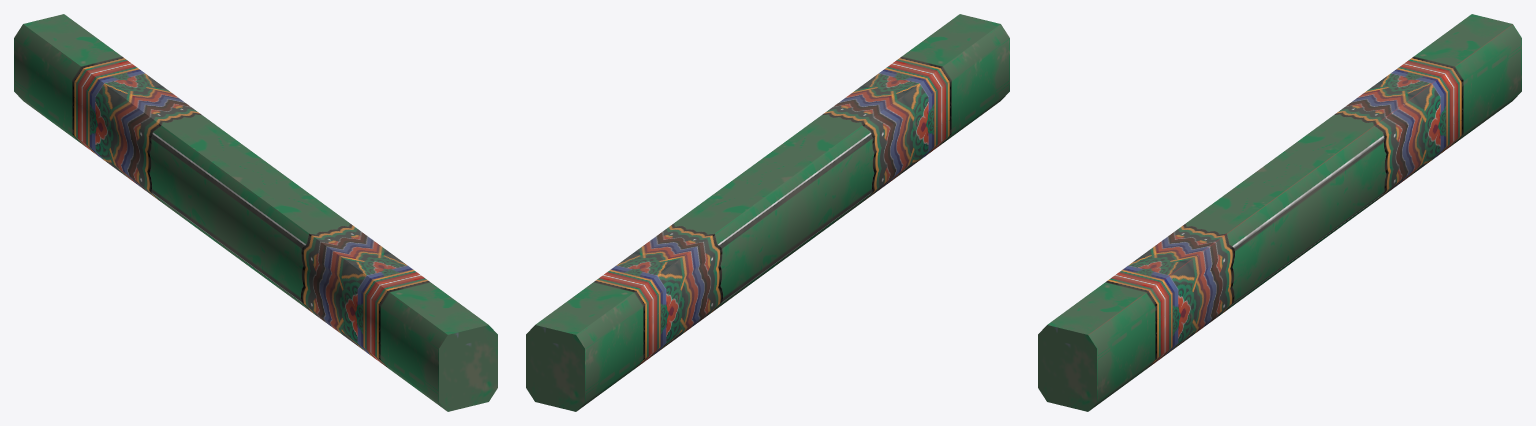
Rendered from SM_Lintel01c.fbx.
3 renders of one model, left to right at view 1: azimuth 30°, elevation 25°; view 2: azimuth 150°, elevation 25°; view 3: azimuth 330°, elevation 25°, orthographic.
Visible parts, largest first — view 1: SM_Lintel01c; view 2: SM_Lintel01c; view 3: SM_Lintel01c.
Part boxes in pixels (<box>): SM_Lintel01c: <box>14,14,497,411</box>; SM_Lintel01c: <box>526,14,1009,411</box>; SM_Lintel01c: <box>1038,14,1521,411</box>.
Size of the model in its own units: 16 by 200 by 20.
1 material, 1 textured.
